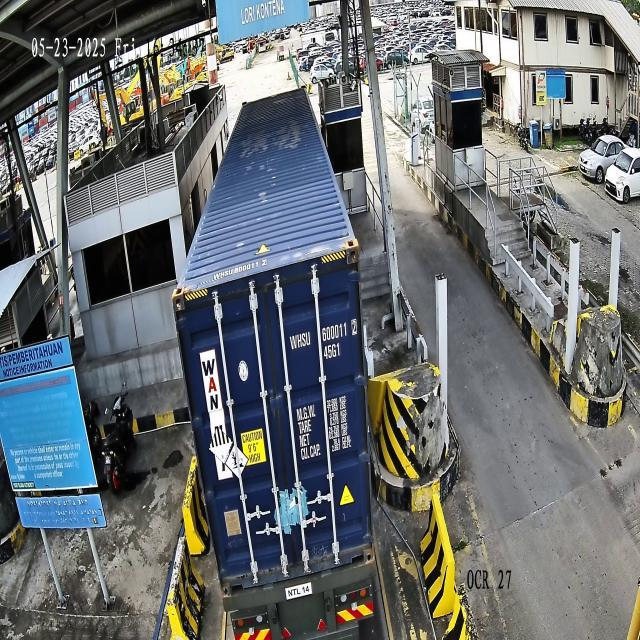ISO: (323, 341, 341, 362)
container_number: (288, 317, 358, 352)
